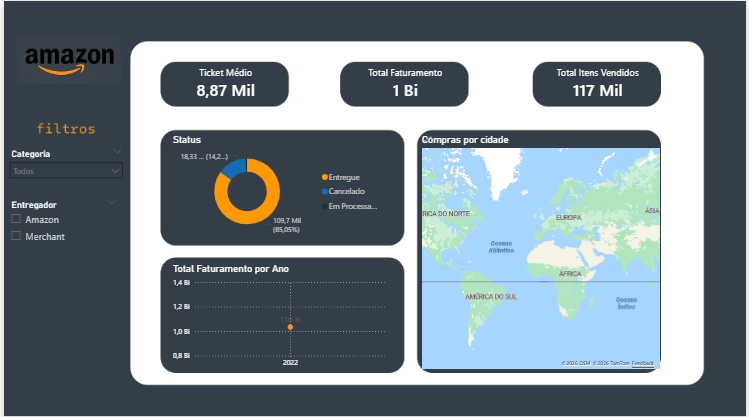

This screenshot's page, from the dashboard's own definition file:
{"tool":"powerbi","page":{"name":"Página 1","canvas":[1280,720],"ordinal":0},"visuals":[{"type":"areaChart","fields":{"Category":["dCalendario.Date.Variation.Hierarquia de datas.Ano","dCalendario.Date.Variation.Hierarquia de datas.Trimestre","dCalendario.Date.Variation.Hierarquia de datas.Mês","dCalendario.Date.Variation.Hierarquia de datas.Dia"],"Y":["_Medidas.Total Faturamento"]},"box":[286.3,451.4,375.7,189.9],"z":0},{"type":"azureMap","title":"Compras por cidade","fields":{"Category":["Amazon Sale Report.ship-city"]},"box":[715,230,420,411.2],"z":1000},{"type":"slicer","fields":{"Values":["Amazon Sale Report.Category"]},"box":[0,249.1,214.7,85.3],"z":2000},{"type":"slicer","fields":{"Values":["Amazon Sale Report.Fulfilment"]},"box":[0,335.8,205.1,100.5],"z":3000},{"type":"donutChart","title":"Status","fields":{"Category":["Amazon Sale Report.Status Simplificado"],"Y":["CountNonNull(Amazon Sale Report.Order ID)"]},"box":[286.3,229.8,375.7,178.9],"z":4000},{"type":"cardVisual","fields":{"Data":["_Medidas.Ticket Médio"]},"box":[272.5,96.3,220.2,90.8],"z":5000},{"type":"cardVisual","fields":{"Data":["_Medidas.Total Faturamento"]},"box":[580.8,96.3,223,90.8],"z":6000},{"type":"cardVisual","fields":{"Data":["_Medidas.Total Itens Vendidos"]},"box":[913.9,96.3,220.2,90.8],"z":7000}]}

Visuals, with their boxes in screenshot pixels (x1, y1, x2, y2), scaled from the page's 1280x720 canvas onto the 749x417 screenshot:
areaChart - dCalendario.Date.Variation.Hierarquia de datas.Ano x dCalendario.Date.Variation.Hierarquia de datas.Trimestre: box=[168, 261, 387, 371]
"Compras por cidade" azureMap: box=[418, 133, 664, 371]
slicer - Amazon Sale Report.Category: box=[0, 144, 126, 194]
slicer - Amazon Sale Report.Fulfilment: box=[0, 194, 120, 253]
"Status" donutChart: box=[168, 133, 387, 237]
cardVisual - _Medidas.Ticket Médio: box=[159, 56, 288, 108]
cardVisual - _Medidas.Total Faturamento: box=[340, 56, 470, 108]
cardVisual - _Medidas.Total Itens Vendidos: box=[535, 56, 664, 108]
